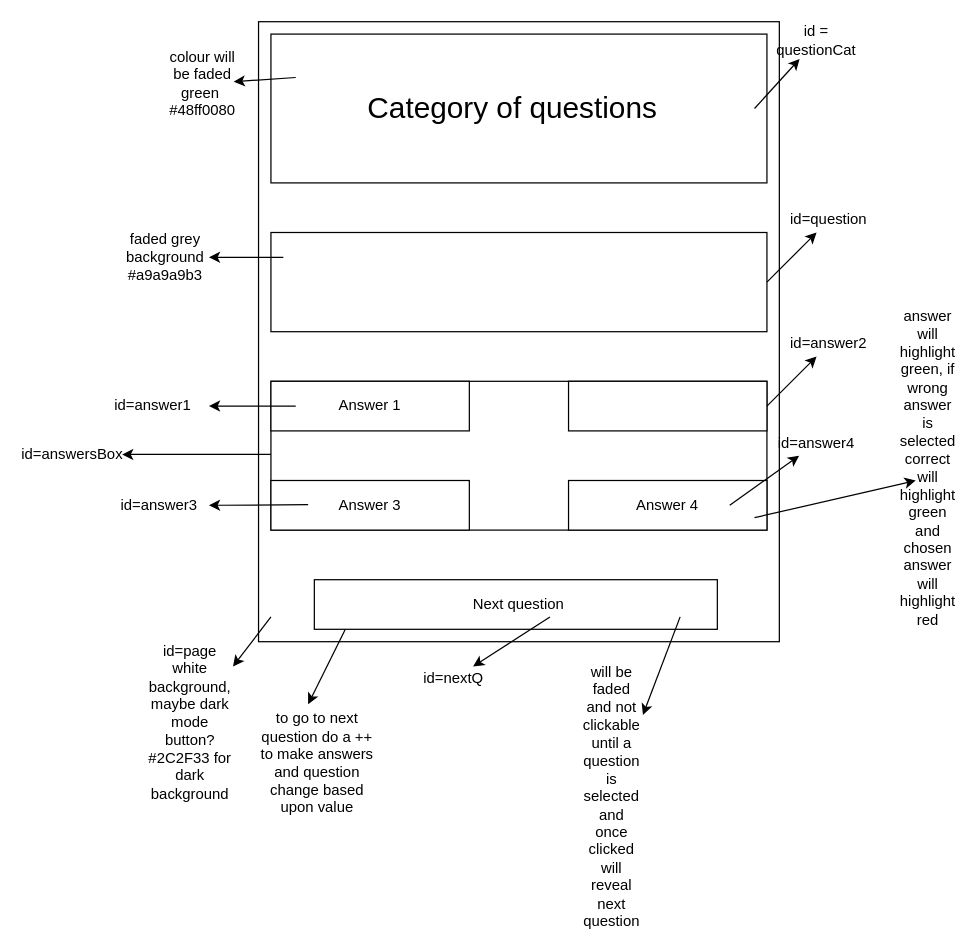
Some shapes in this 977 by 952 pixel diagram are drawn without their labels. Here are the shapes that lost their labels. From the top down, the centre of each, then its label:
At [518,281]: "Question".
At [667,405]: "Answer 2".
